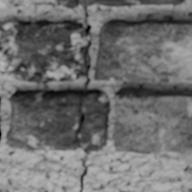brick: (95, 19, 191, 83), (0, 20, 85, 82), (115, 88, 191, 154)
broken_brick: (5, 88, 82, 152), (80, 89, 110, 152), (81, 0, 186, 7), (0, 0, 56, 9), (60, 0, 78, 9)
crack: (0, 0, 190, 191), (56, 0, 61, 5)
